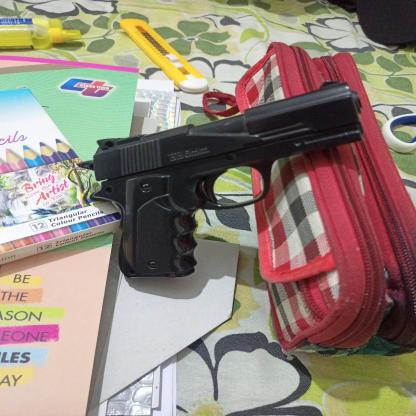handgun: (77, 82, 367, 281)
